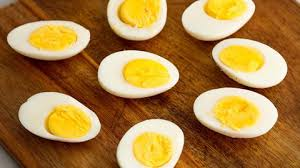boiled-egg: (99, 47, 179, 100)
